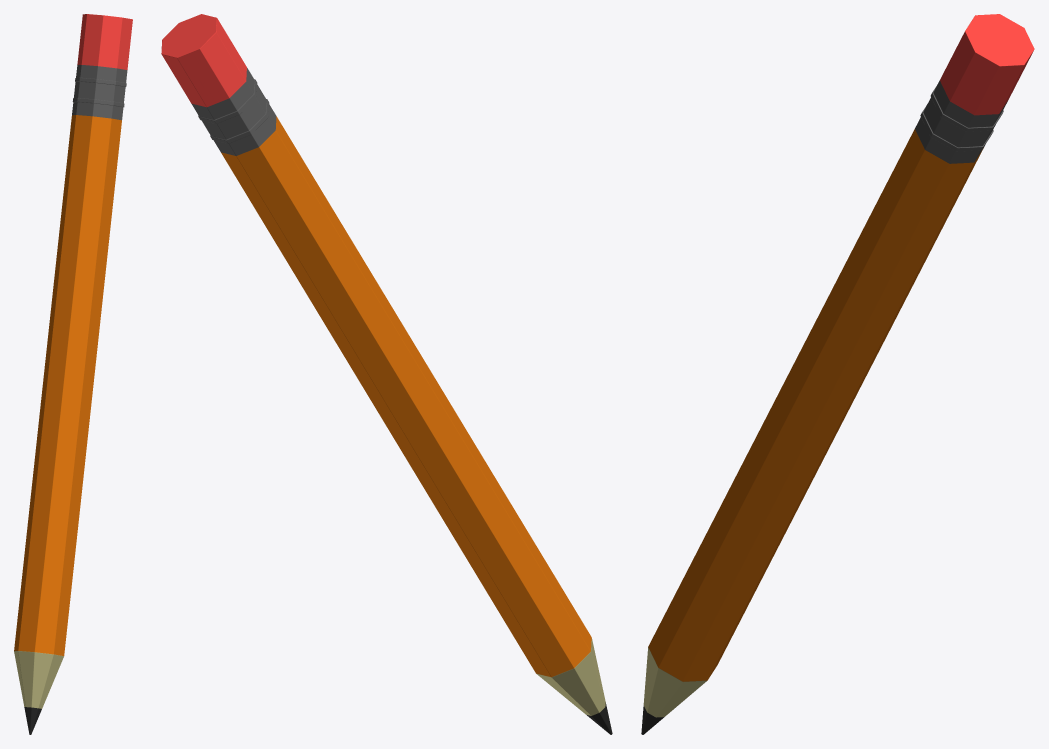
File: Pencil-low.fbx
3 views of the same model, side by side, from view 1: azimuth 30°, elevation 25°; view 2: azimuth 150°, elevation 25°; view 3: azimuth 270°, elevation 25° (orthographic). The views are drawn at different scales.
Parts seen in each view (by area): view 1: lapiz editado; view 2: lapiz editado; view 3: lapiz editado.
Boxes of the visible parts, <box> form: lapiz editado: <box>14,14,132,734</box>; lapiz editado: <box>161,14,612,734</box>; lapiz editado: <box>641,14,1034,734</box>.
Bounding box in the file's own units: 200 × 507 × 212.
